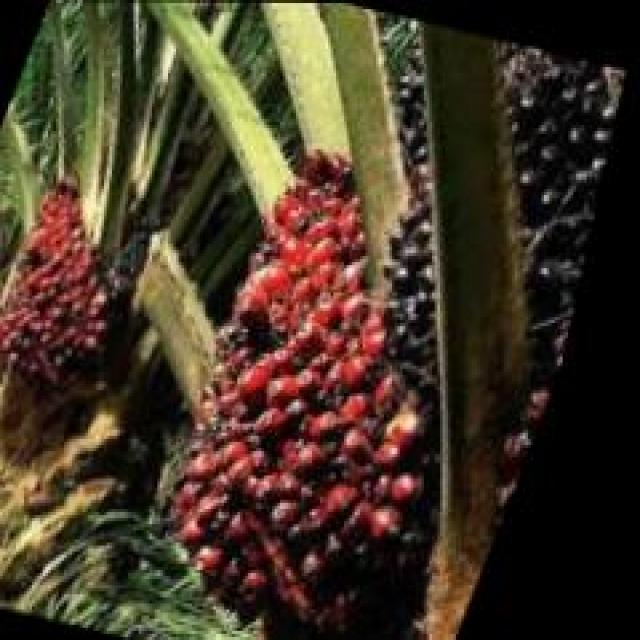Ripefruit: (134, 140, 574, 640), (0, 177, 168, 390)
